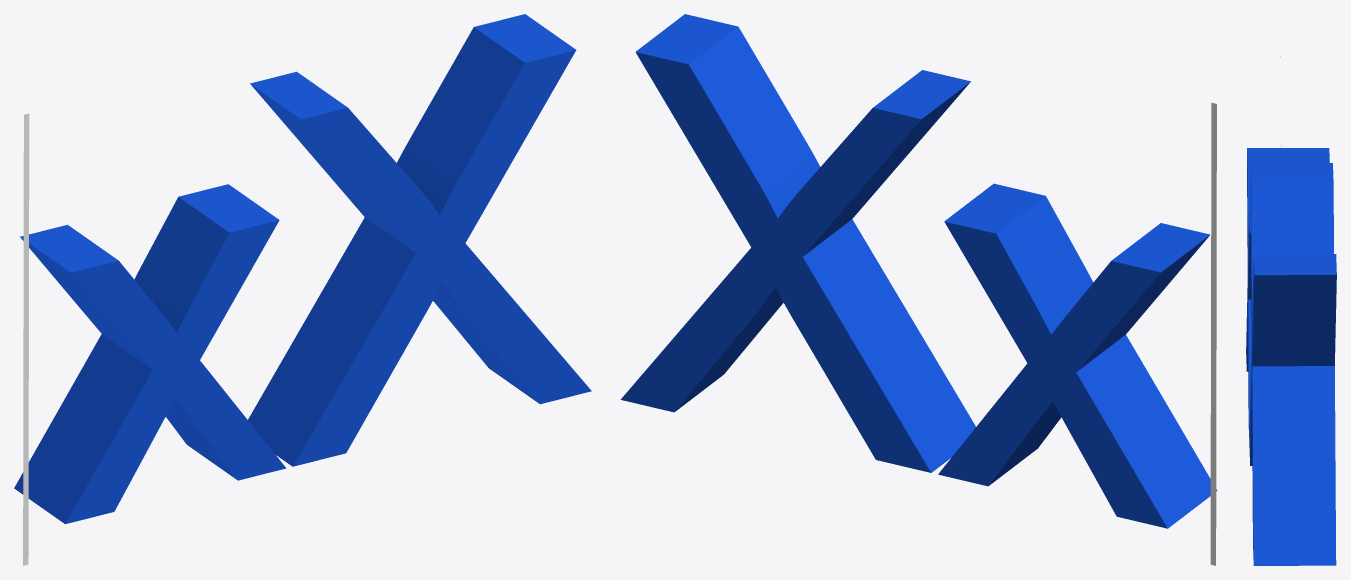
The picture shows the model from 3 angles, left to right: view 1: azimuth 30°, elevation 25°; view 2: azimuth 150°, elevation 25°; view 3: azimuth 270°, elevation 25°; orthographic projection. The views are drawn at different scales.
Visible parts, largest first — view 1: Mesh_0.027, Плоскость; view 2: Mesh_0.027, Плоскость; view 3: Mesh_0.027.
Boxes of the visible parts, <box> form: Mesh_0.027: <box>14,14,591,524</box>; Плоскость: <box>23,113,29,565</box>; Mesh_0.027: <box>620,14,1217,528</box>; Плоскость: <box>1210,102,1216,565</box>; Mesh_0.027: <box>1246,148,1336,565</box>.
Size of the model in its own units: 11.99 by 9.38 by 2.07.
